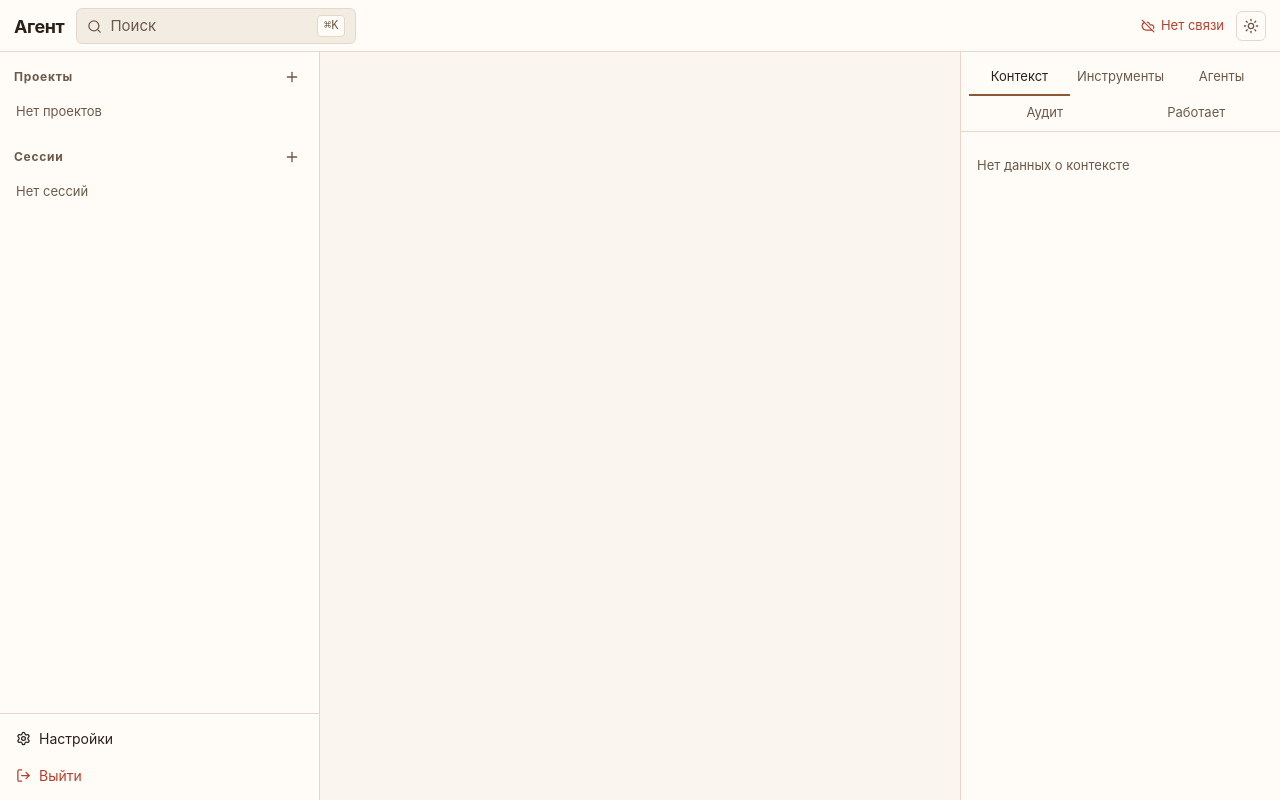
Test: App — project creation flow › opens the create form when Plus is clicked
Click the button named "Новый проект": [292, 77] box [279,64,305,90]
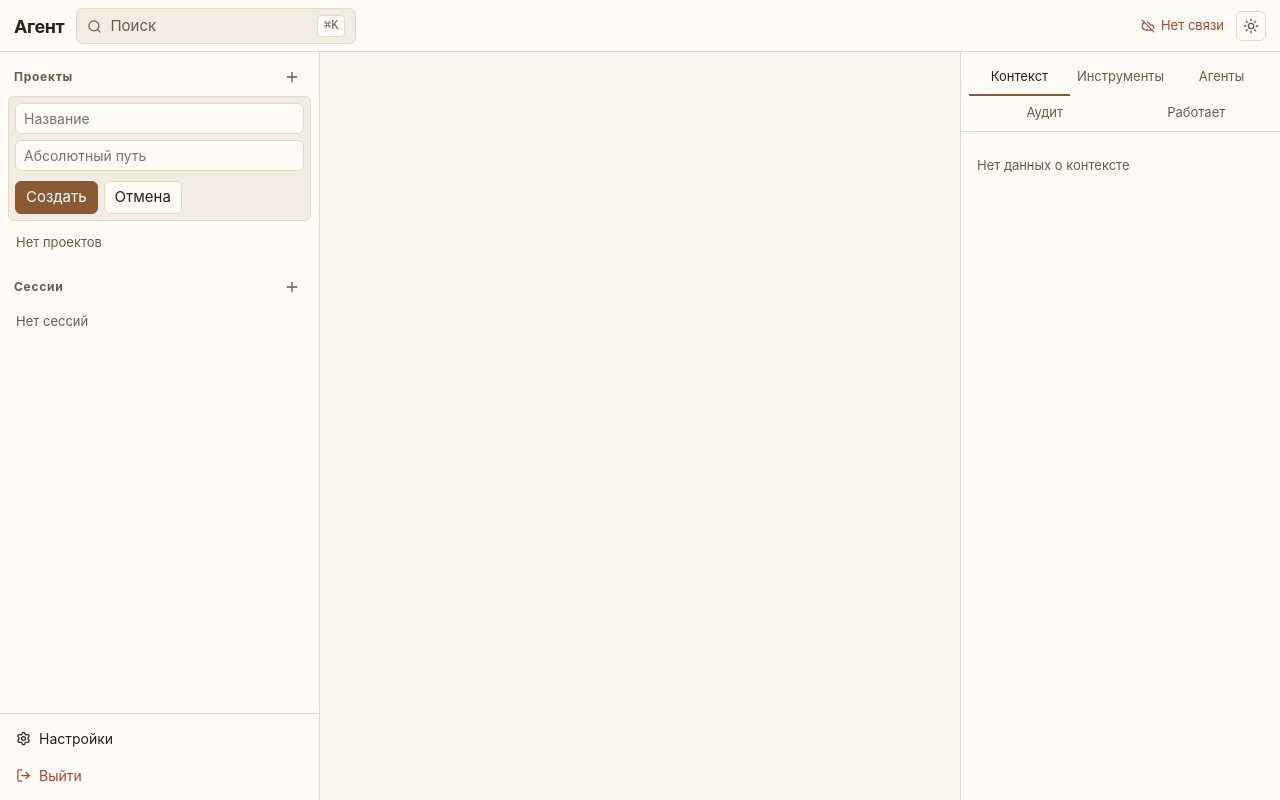
expect the form is shown: met, box [8,96,311,220]
